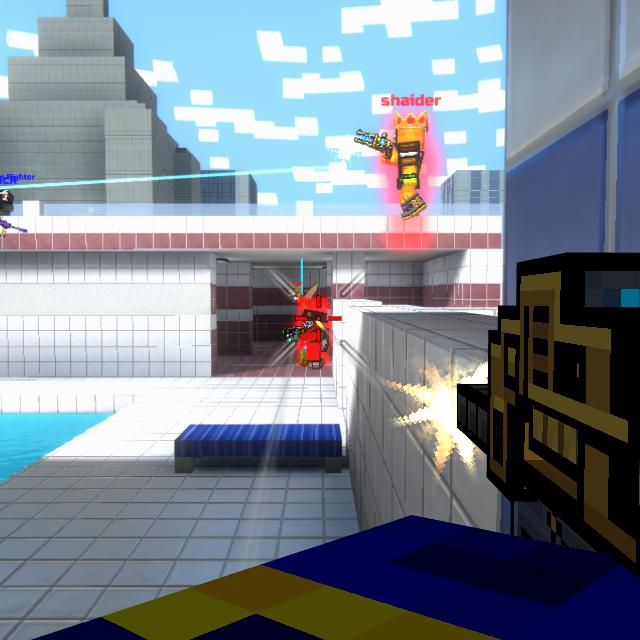Enemy: (379, 116, 427, 223), (295, 310, 330, 368)
